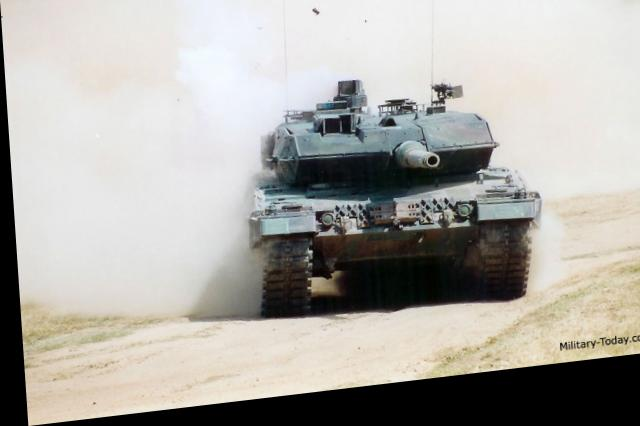tank: (245, 95, 534, 334)
